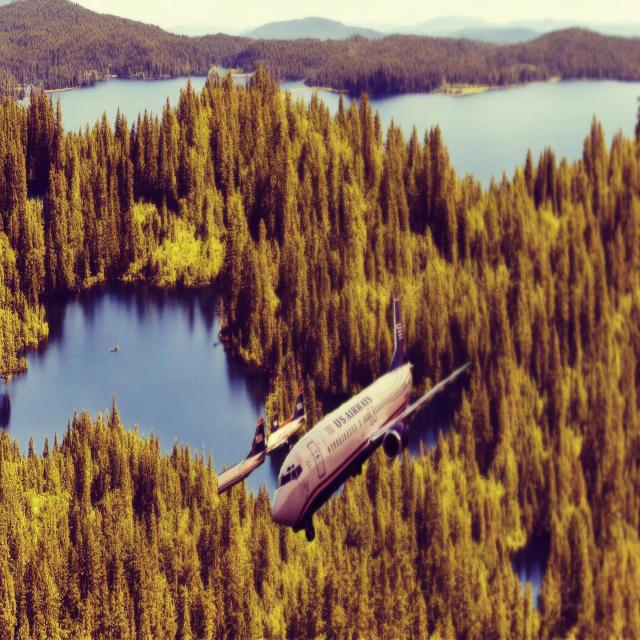airplane: (216, 291, 470, 542)
